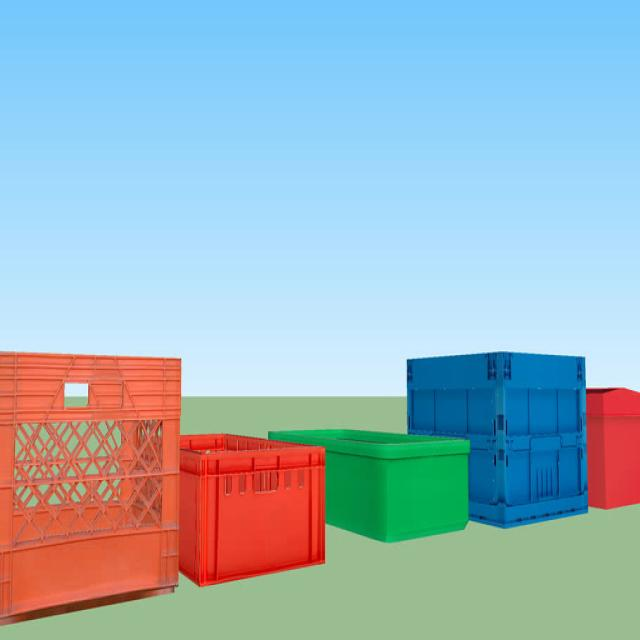basket: (0, 351, 181, 626), (408, 351, 588, 525), (258, 420, 478, 551), (178, 433, 326, 589), (588, 388, 640, 508)
